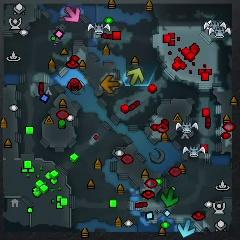x1: (64, 6, 81, 23)
x2: (125, 68, 144, 86)
x3: (176, 218, 196, 237)
x4: (161, 188, 179, 206)
x5: (100, 75, 120, 95)
